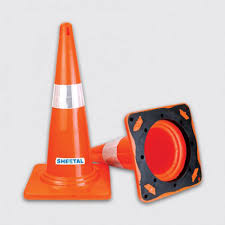cones: (24, 18, 114, 201)
